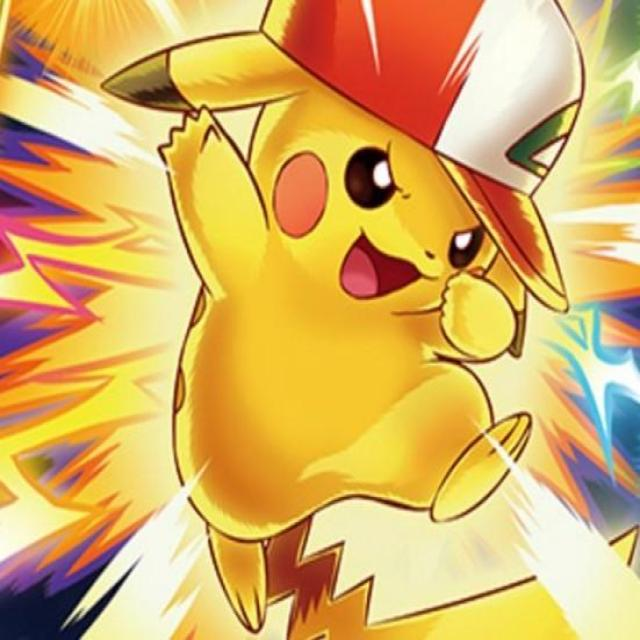pikachu: (104, 35, 534, 609)
